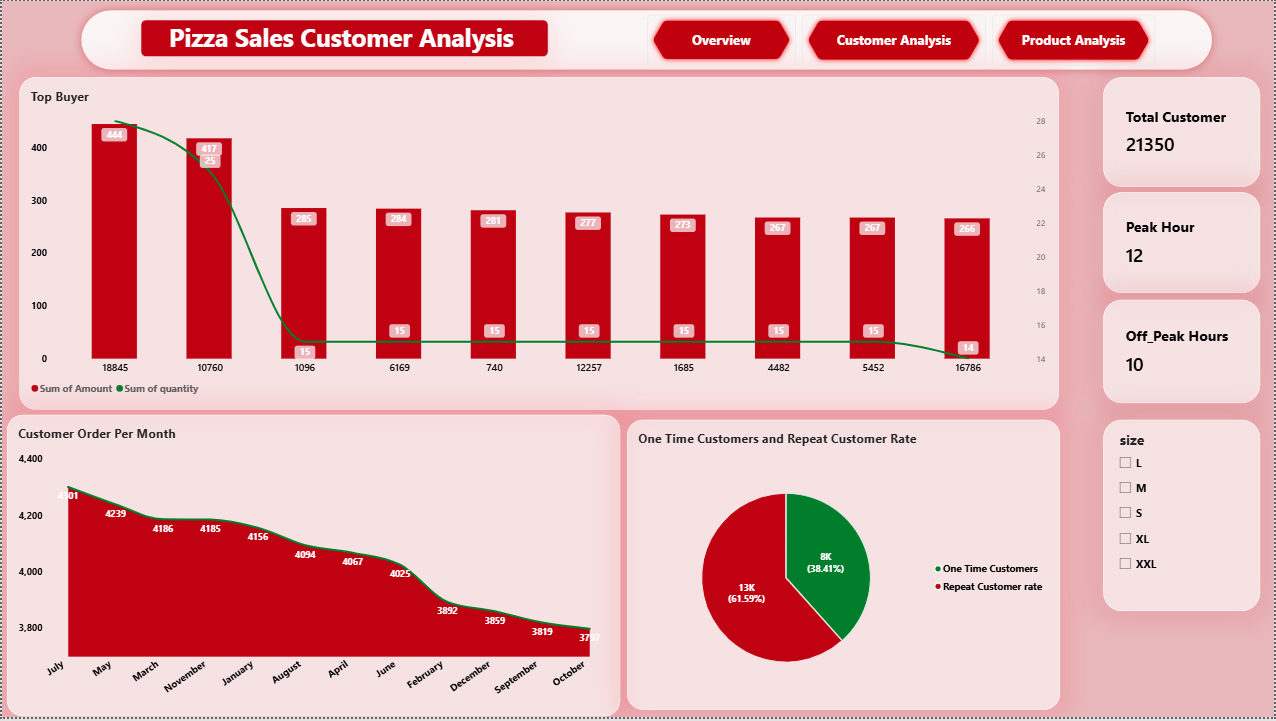

The dashboard page shown, as its layout file describes it:
{"tool":"powerbi","page":{"name":"Customer Analysis","canvas":[1920,1080],"ordinal":1},"visuals":[{"type":"shape","box":[106,0,1734.9,117.6],"z":0},{"type":"lineClusteredColumnComboChart","title":"Top Buyer","fields":{"Category":["order_details.order_id"],"Y":["Sum(order_details.Amount)"],"Y2":["Sum(order_details.quantity)"]},"box":[27,115.7,1569.2,501.2],"z":1000},{"type":"cardVisual","fields":{"Data":["order_details.Total Unique Customers"]},"box":[1661.7,115.7,237.1,165.8],"z":2000},{"type":"actionButton","box":[973.5,21.2,225,76.2],"z":3000},{"type":"actionButton","box":[1206.7,21.2,277.6,77.1],"z":4000},{"type":"actionButton","box":[1494,21.2,246.7,77.1],"z":5000},{"type":"textbox","box":[210.1,28.9,614.9,55.9],"z":6000},{"type":"cardVisual","fields":{"Data":["orders.Peak Hour"]},"box":[1661.7,289.2,237.1,152.3],"z":7000},{"type":"cardVisual","fields":{"Data":["orders.Off_Peak Hours"]},"box":[1661.7,451.1,237.1,156.1],"z":8000},{"type":"lineChart","title":"Customer Order Per Month","fields":{"Category":["orders.Month"],"Y":["CountNonNull(order_details.order_id)"]},"box":[7.7,624.6,925.3,454.9],"z":9000},{"type":"pieChart","title":"One Time Customers and Repeat Customer Rate","fields":{"Y":["order_details.One Time Customers","order_details.Repeat Customer rate"]},"box":[942.7,632.3,653.5,437.6],"z":10000},{"type":"slicer","fields":{"Values":["pizzas.size"]},"box":[1661.7,632.3,237.1,289.2],"z":10001}]}

Visuals, with their boxes in screenshot pixels (x1, y1, x2, y2), scaled from the page's 1920x1080 canvas onto the 1276x721 screenshot:
shape: select_region(70, 0, 1223, 79)
"Top Buyer" lineClusteredColumnComboChart: select_region(18, 77, 1061, 412)
cardVisual - order_details.Total Unique Customers: select_region(1104, 77, 1262, 188)
actionButton: select_region(647, 14, 797, 65)
actionButton: select_region(802, 14, 986, 66)
actionButton: select_region(993, 14, 1157, 66)
textbox: select_region(140, 19, 548, 57)
cardVisual - orders.Peak Hour: select_region(1104, 193, 1262, 295)
cardVisual - orders.Off_Peak Hours: select_region(1104, 301, 1262, 405)
"Customer Order Per Month" lineChart: select_region(5, 417, 620, 720)
"One Time Customers and Repeat Customer Rate" pieChart: select_region(627, 422, 1061, 714)
slicer - pizzas.size: select_region(1104, 422, 1262, 615)
